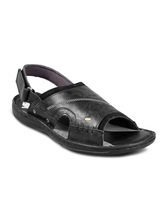shoes: (12, 64, 161, 161)
